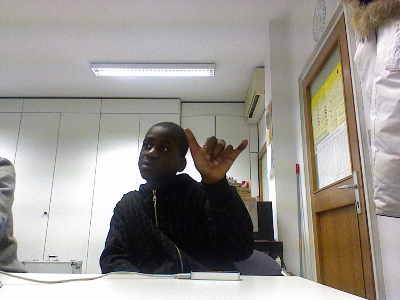六六六: (181, 124, 249, 183)
